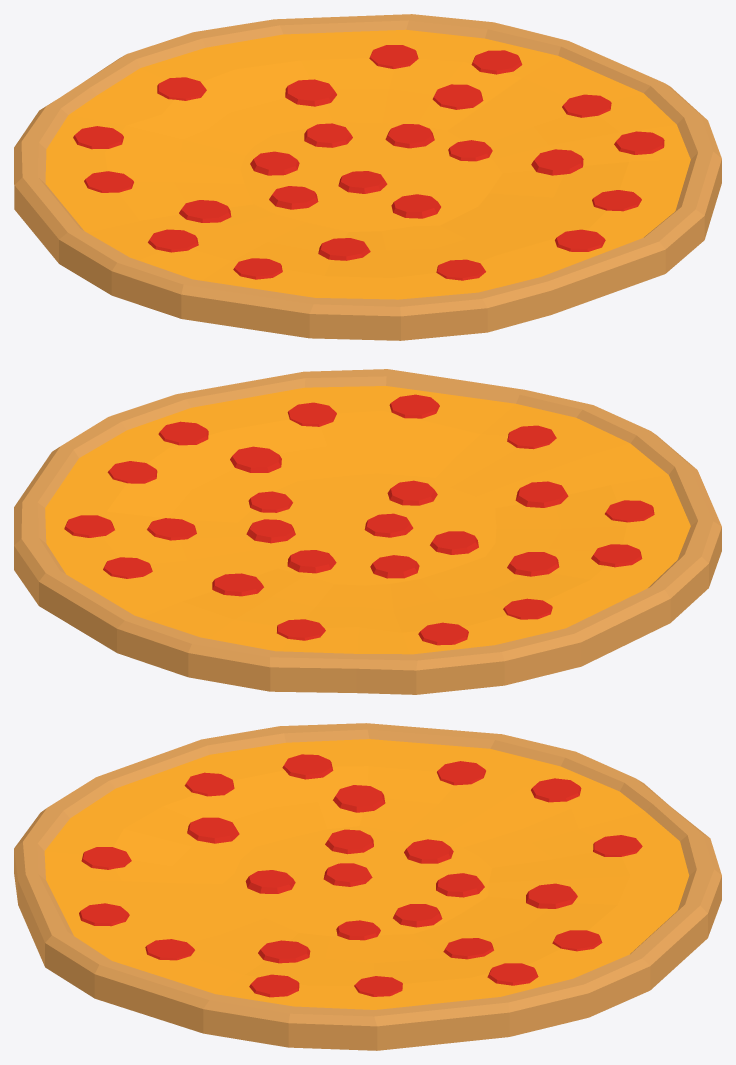
Rendered from Pizza.glb.
3 views of the same model, one above another, from view 1: azimuth 30°, elevation 25°; view 2: azimuth 150°, elevation 25°; view 3: azimuth 270°, elevation 25° (orthographic).
Visible parts, largest first — view 1: Pizza; view 2: Pizza; view 3: Pizza.
Part boxes in pixels (<box>): Pizza: <box>14,14,721,340</box>; Pizza: <box>14,369,721,694</box>; Pizza: <box>14,723,721,1050</box>.
Bounding box in the file's own units: 337 × 16.09 × 336.
